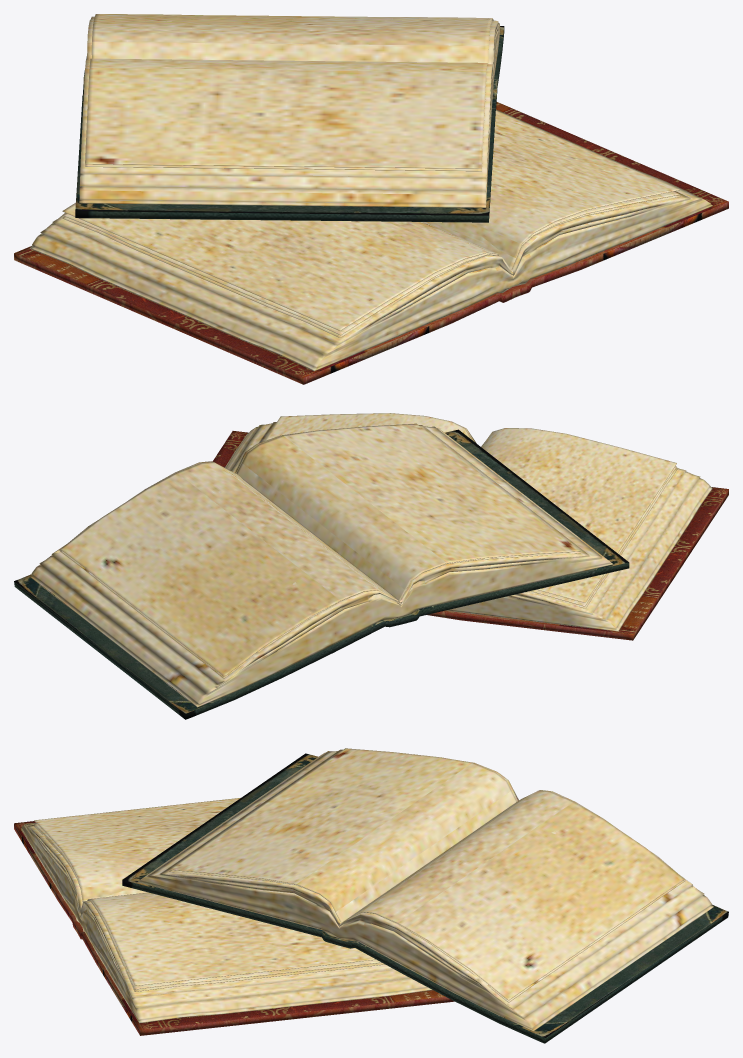
Rendered from open_books.glb.
3 renders of one model, top to bottom at view 1: azimuth 30°, elevation 25°; view 2: azimuth 150°, elevation 25°; view 3: azimuth 270°, elevation 25°, orthographic. The views are drawn at different scales.
Visible parts, largest first — view 1: Open Book Pages.001, Open Book Pages, Open Book, Open Book.001; view 2: Open Book Pages.001, Open Book Pages, Open Book.001, Open Book; view 3: Open Book Pages.001, Open Book Pages, Open Book.001, Open Book.
Part boxes in pixels (<box>): Open Book Pages.001: <box>79,14,500,207</box>; Open Book Pages: <box>30,109,712,371</box>; Open Book: <box>14,102,728,384</box>; Open Book.001: <box>75,26,504,222</box>; Open Book Pages.001: <box>29,423,613,707</box>; Open Book Pages: <box>225,413,712,631</box>; Open Book.001: <box>14,429,629,719</box>; Open Book: <box>212,431,728,640</box>; Open Book Pages.001: <box>137,748,713,1030</box>; Open Book Pages: <box>21,798,432,1023</box>; Open Book.001: <box>122,753,728,1043</box>; Open Book: <box>14,821,454,1035</box>.
Size of the model in its own units: 0.7988 by 0.137 by 0.9664.
Materials: 3 (3 with a texture image).
